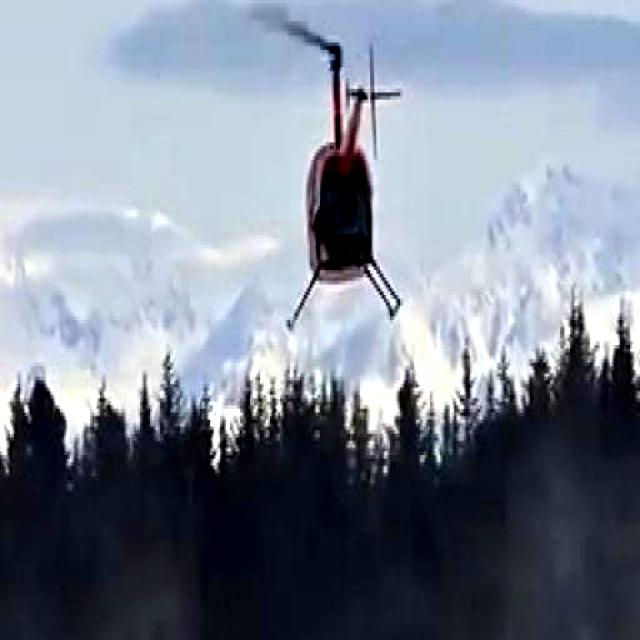drone: (259, 4, 414, 342)
